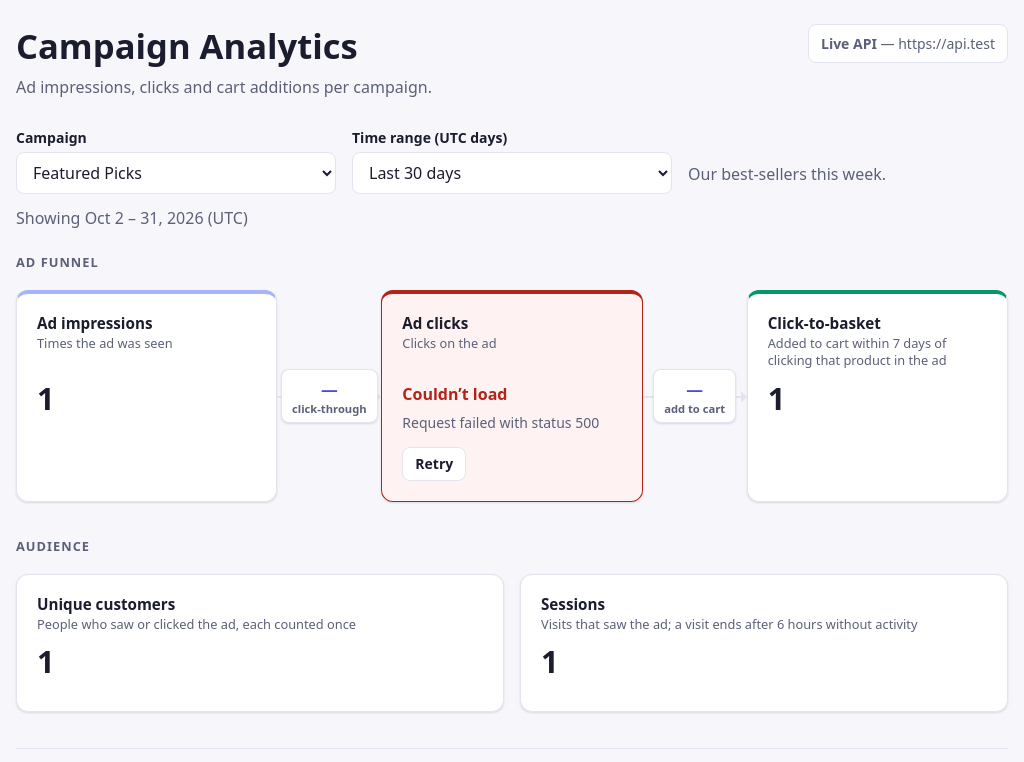
Test case: AnalyticsPage › shows the loader again while a failed metric is retried
Click the button with aria-label "Retry Ad clicks" at [434, 464], box x1=402 y1=447 x2=466 y2=481
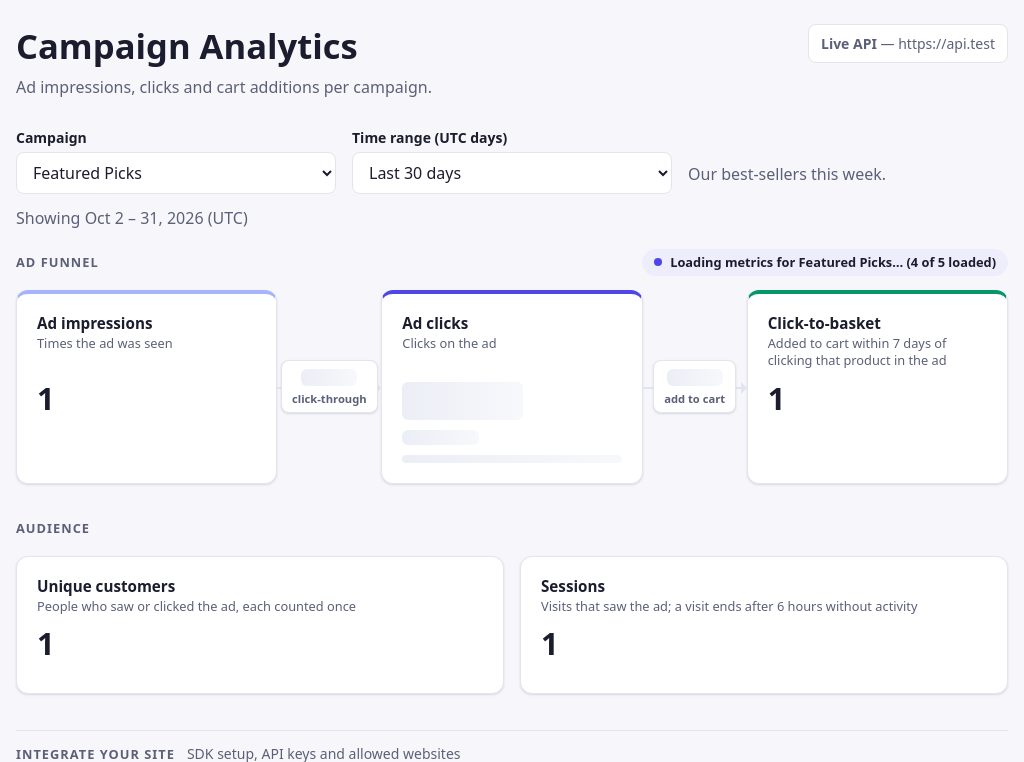
Expected: the element with test id "metrics-loading" shows "(4 of 5 loaded)", x1=642 y1=249 x2=1008 y2=276
